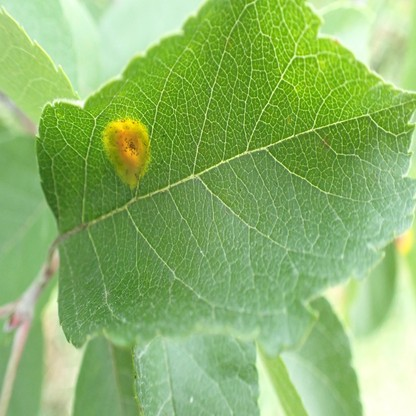rust: (101, 120, 152, 186)
